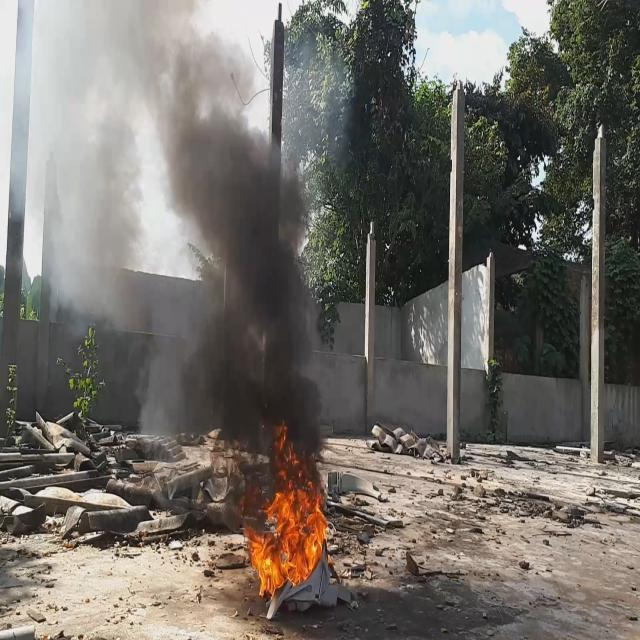Fire: (240, 428, 326, 598)
Smoke: (16, 0, 325, 511)
